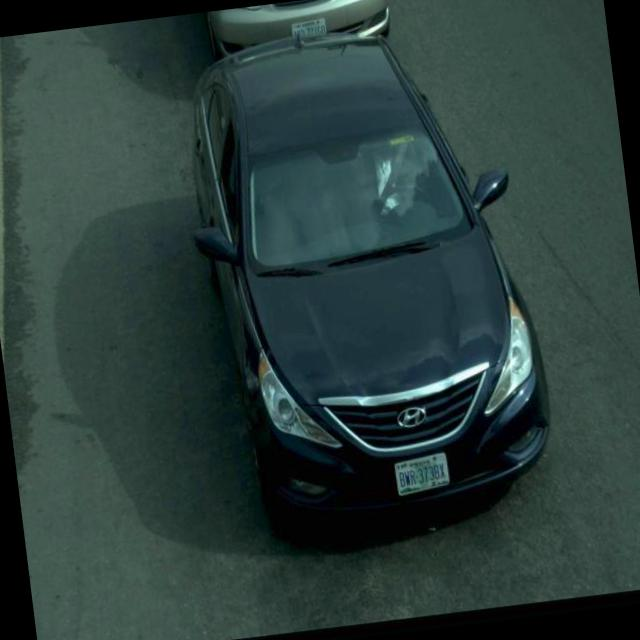person_with_seatbelt: (344, 127, 451, 249)
